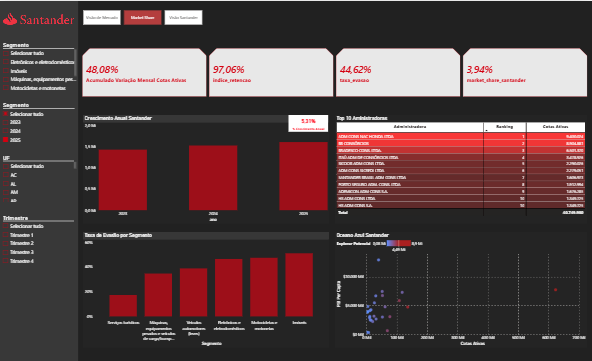

The dashboard page shown, as its layout file describes it:
{"tool":"powerbi","page":{"name":"Market Share","canvas":[1980,1200],"ordinal":1},"visuals":[{"type":"shape","box":[0,0,263.7,1480.8],"z":0},{"type":"image","box":[0,0,264,116],"z":1000},{"type":"clusteredColumnChart","title":"Crescimento Anual Santander","fields":{"Category":["d_calendario.ano"],"Y":["#Medidas.cotas_ativas_santander"]},"box":[278.2,380.2,820,362],"z":2000},{"type":"cardVisual","fields":{"Data":["#Medidas.variacao_mom_cotas_ativas","#Medidas.indice_retencao","#Medidas.taxa_evasao","#Medidas.market_share_santander"]},"box":[262,138,1718,196],"z":3000},{"type":"clusteredColumnChart","title":"Taxa de Evasão por Segmento","fields":{"Category":["d_segmento.descricao_segmento"],"Y":["#Medidas.taxa_evasao"]},"box":[278.3,767.8,820.2,385],"z":4000},{"type":"slicer","fields":{"Values":["d_segmento.descricao_segmento"]},"box":[0,127.6,263.9,170.9],"z":5000},{"type":"pageNavigator","box":[278,32,400,50],"z":6000},{"type":"slicer","fields":{"Values":["d_geografia.sigla_uf"]},"box":[0,507,262.5,169.9],"z":7000},{"type":"scatterChart","title":"Oceano Azul Santander","fields":{"Category":["d_geografia.sigla_uf"],"Legend":["#Medidas.flag_oceano_azul"],"X":["#Medidas.cotas_ativas_santander"],"Y":["d_geografia.pib_per_capita"]},"box":[1118.3,768.3,840,385],"z":8000},{"type":"slicer","fields":{"Values":["d_calendario.trimestre"]},"box":[0,705.2,262.5,190.5],"z":9000},{"type":"card","fields":{"Values":["#Medidas.crescimento_yoy_santander"]},"box":[966,380,132,56],"z":10000},{"type":"tableEx","title":"Top 10 Aministradoras","fields":{"Values":["d_administradora.nome_administradora","d_administradora.ranking_cotas","#Medidas.total_cotas_ativas"]},"box":[1120.2,381.2,840,362.5],"z":11000},{"type":"slicer","fields":{"Values":["d_calendario.ano"]},"box":[0,327.5,265,170],"z":12000}]}

Visuals, with their boxes in screenshot pixels (x1, y1, x2, y2), scaled from the page's 1980x1200 canvas onto the 592x361 screenshot:
shape: (0,0,79,360)
image: (0,0,79,35)
"Crescimento Anual Santander" clusteredColumnChart: (83,114,328,223)
cardVisual - #Medidas.variacao_mom_cotas_ativas x #Medidas.indice_retencao: (78,42,591,100)
"Taxa de Evasão por Segmento" clusteredColumnChart: (83,231,328,347)
slicer - d_segmento.descricao_segmento: (0,38,79,90)
pageNavigator: (83,10,203,25)
slicer - d_geografia.sigla_uf: (0,153,78,204)
"Oceano Azul Santander" scatterChart: (334,231,586,347)
slicer - d_calendario.trimestre: (0,212,78,269)
card - #Medidas.crescimento_yoy_santander: (289,114,328,131)
"Top 10 Aministradoras" tableEx: (335,115,586,224)
slicer - d_calendario.ano: (0,99,79,150)
